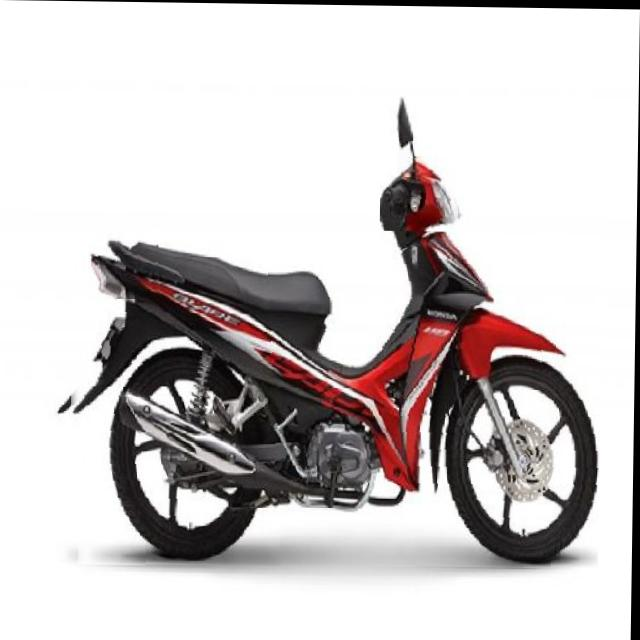All: (56, 151, 604, 570)
Head: (380, 155, 461, 230)
Tail: (89, 225, 159, 301)
